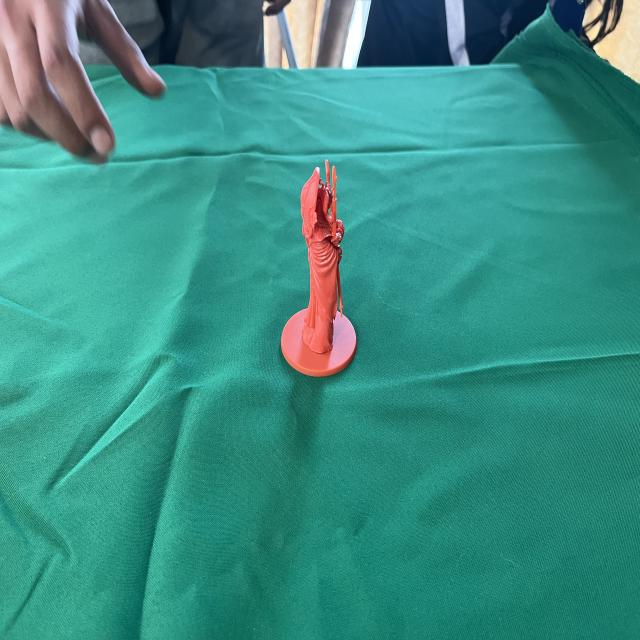amon: (275, 154, 361, 382)
